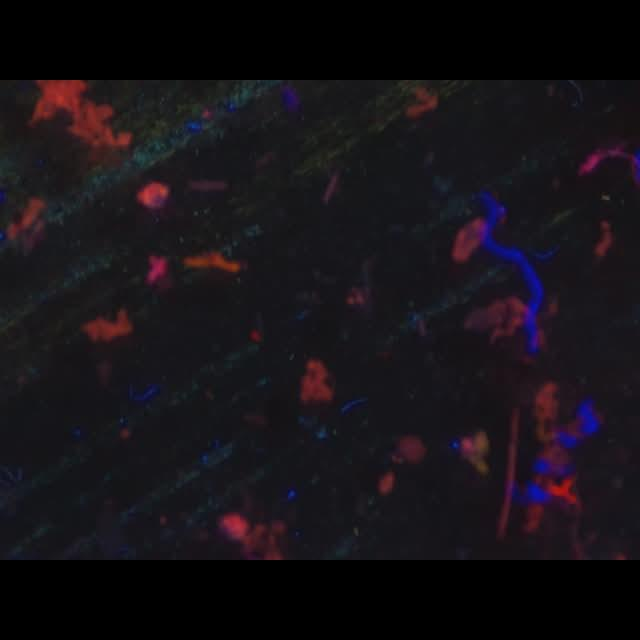Fragment: (300, 356, 334, 406)
